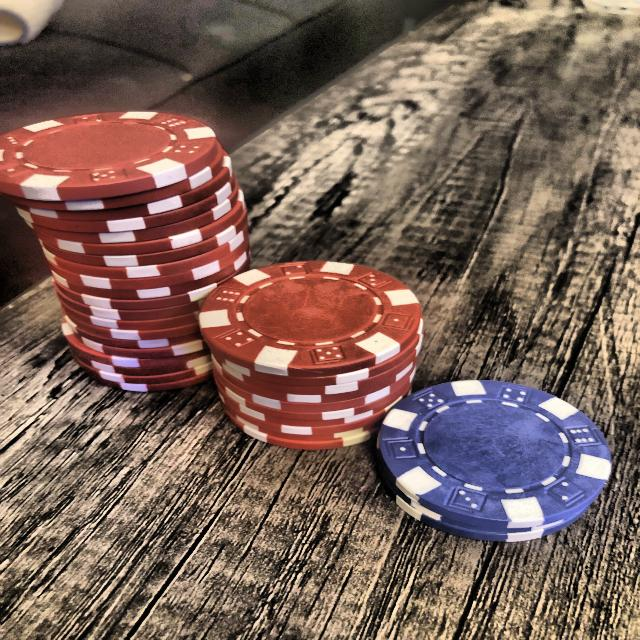Chip: (0, 111, 248, 395), (196, 258, 425, 450), (374, 376, 614, 542)
